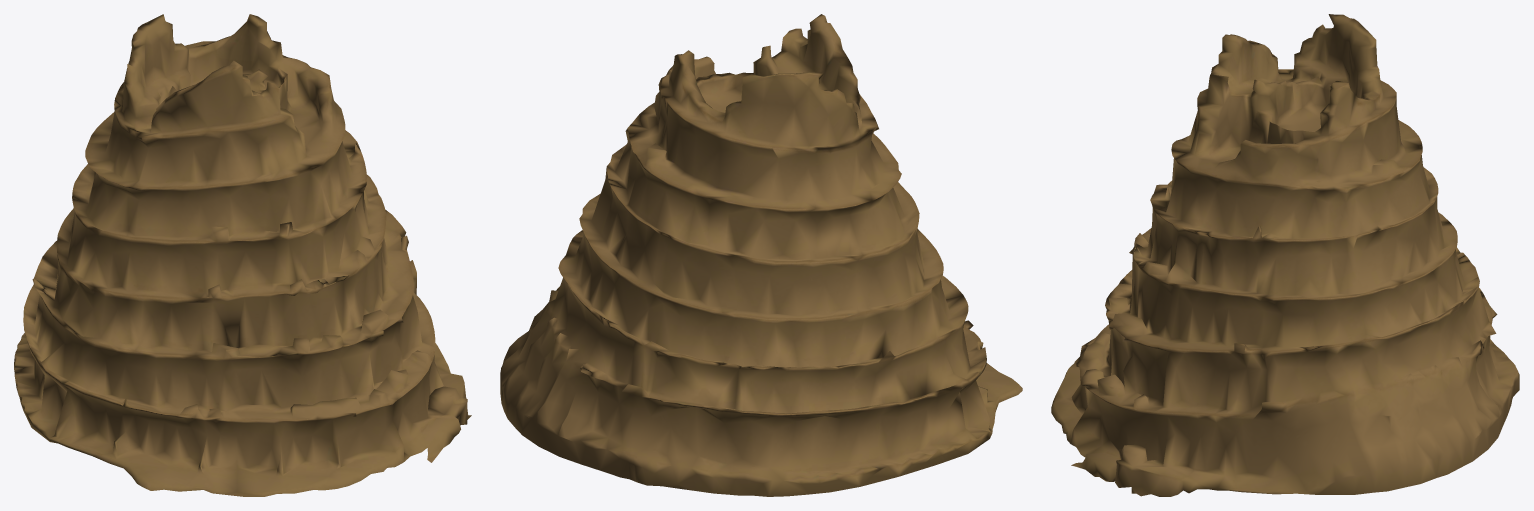
Rendered from selected.fbx.
The picture shows the model from 3 angles, left to right: view 1: azimuth 30°, elevation 25°; view 2: azimuth 150°, elevation 25°; view 3: azimuth 270°, elevation 25°; orthographic projection. The views are drawn at different scales.
Visible parts, largest first — view 1: tripo_node_a8a91f75-f3b1-4bc7-b45b-d7e9c26616f1; view 2: tripo_node_a8a91f75-f3b1-4bc7-b45b-d7e9c26616f1; view 3: tripo_node_a8a91f75-f3b1-4bc7-b45b-d7e9c26616f1.
Boxes of the visible parts, x1,y1,x2,y2 form: tripo_node_a8a91f75-f3b1-4bc7-b45b-d7e9c26616f1: [14, 14, 471, 496]; tripo_node_a8a91f75-f3b1-4bc7-b45b-d7e9c26616f1: [500, 14, 1022, 496]; tripo_node_a8a91f75-f3b1-4bc7-b45b-d7e9c26616f1: [1051, 14, 1519, 496].
Bounding box in the file's own units: 100 × 87.08 × 99.22.
1 material, 1 textured.
